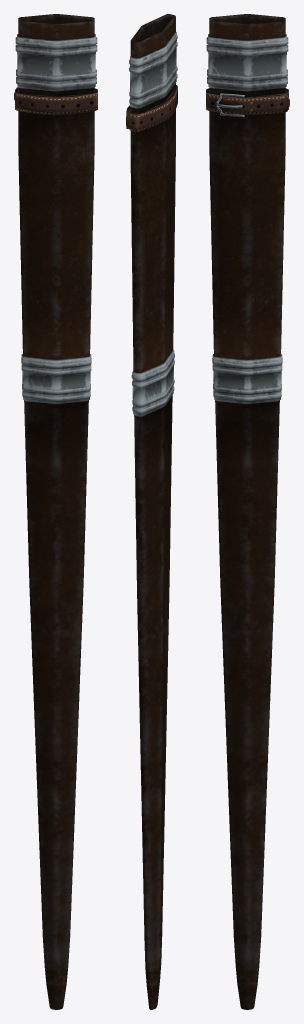
File: SM_scabbards_03.fbx
3 views of the same model, side by side, from view 1: azimuth 90°, elevation 25°; view 2: azimuth 150°, elevation 25°; view 3: azimuth 270°, elevation 25° (orthographic).
Parts seen in each view (by area): view 1: SM_scabbards_03_LOD0; view 2: SM_scabbards_03_LOD0; view 3: SM_scabbards_03_LOD0.
Boxes of the visible parts, box(x1,y1,x2,y2) form: SM_scabbards_03_LOD0: box(14, 14, 97, 1009); SM_scabbards_03_LOD0: box(126, 14, 177, 1009); SM_scabbards_03_LOD0: box(206, 14, 289, 1009).
Size of the model in its own units: 3.79 by 9.09 by 119.
1 material, 1 textured.
